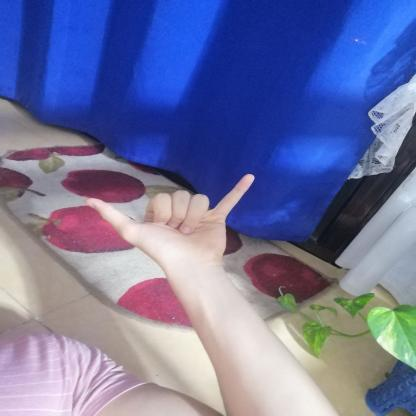YA: (73, 167, 264, 274)
